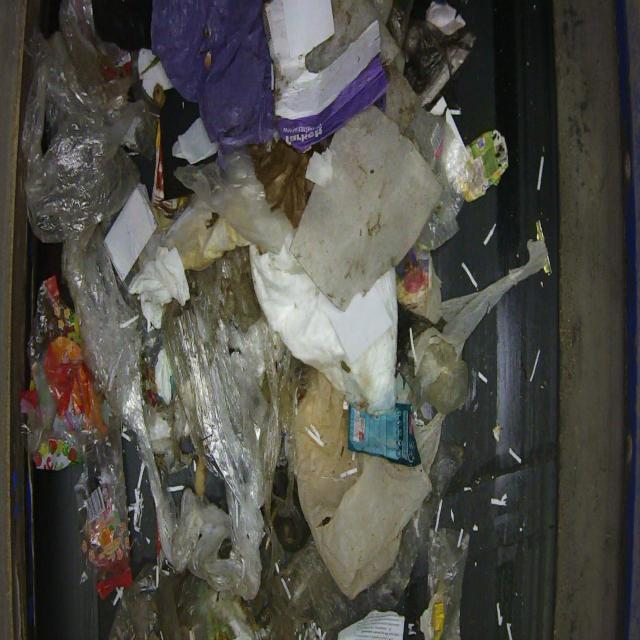other-trash: (20, 0, 551, 638)
